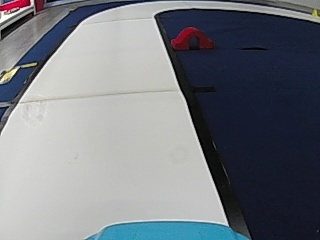bridge: (172, 26, 213, 49)
